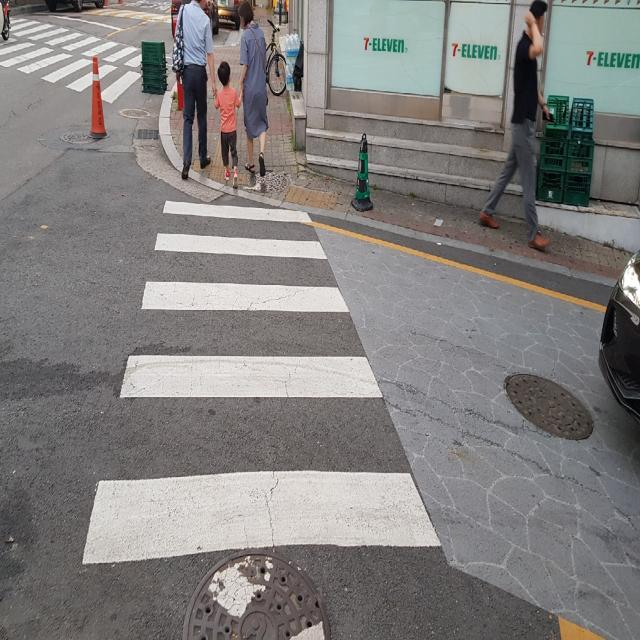횡단보도: (82, 202, 442, 564), (0, 6, 171, 110)
